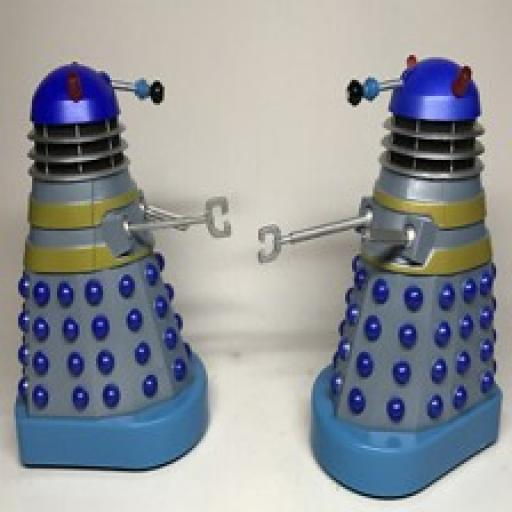dalek: (258, 50, 503, 498), (15, 56, 233, 478)
